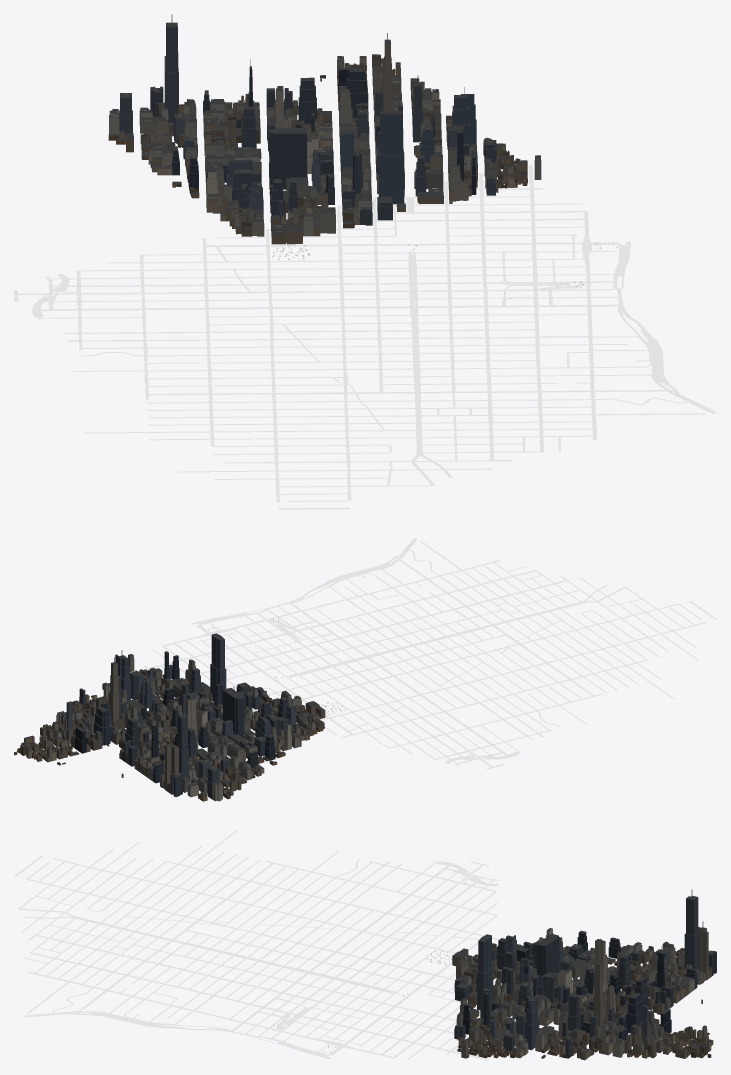
File: manhattan_-01_-02.glb
The picture shows the model from 3 angles, top to bottom: view 1: azimuth 30°, elevation 25°; view 2: azimuth 150°, elevation 25°; view 3: azimuth 270°, elevation 25°; orthographic projection. The views are drawn at different scales.
Visible parts, largest first — view 1: ROAD_-01_-02, BLD_towers_-01_-02, BLD_midrise_-01_-02, BLD_lowrise_-01_-02; view 2: ROAD_-01_-02, BLD_towers_-01_-02, BLD_midrise_-01_-02, BLD_lowrise_-01_-02; view 3: ROAD_-01_-02, BLD_towers_-01_-02, BLD_midrise_-01_-02, BLD_lowrise_-01_-02.
Boxes of the visible parts, x1=… form: ROAD_-01_-02: x1=14, y1=165, x2=716, y2=509; BLD_towers_-01_-02: x1=109, y1=14, x2=541, y2=236; BLD_midrise_-01_-02: x1=119, y1=54, x2=527, y2=244; BLD_lowrise_-01_-02: x1=108, y1=58, x2=527, y2=236; ROAD_-01_-02: x1=138, y1=538, x2=716, y2=769; BLD_towers_-01_-02: x1=66, y1=633, x2=301, y2=801; BLD_midrise_-01_-02: x1=20, y1=664, x2=325, y2=800; BLD_lowrise_-01_-02: x1=14, y1=669, x2=324, y2=801; ROAD_-01_-02: x1=14, y1=830, x2=499, y2=1060; BLD_towers_-01_-02: x1=456, y1=889, x2=716, y2=1058; BLD_midrise_-01_-02: x1=452, y1=941, x2=713, y2=1060; BLD_lowrise_-01_-02: x1=457, y1=947, x2=711, y2=1058.
Size of the model in its own units: 3041 by 523 by 3921.
